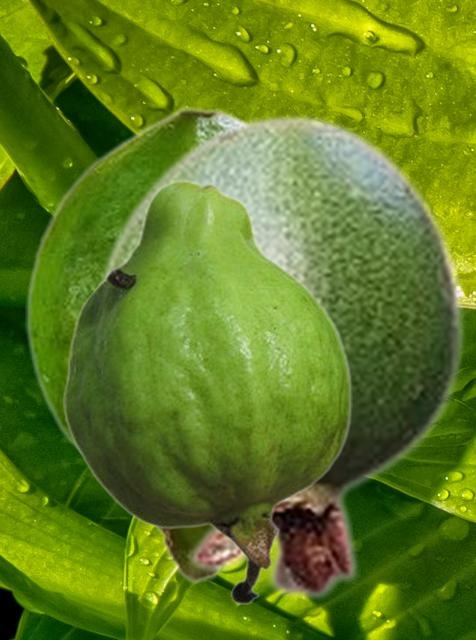guava: (93, 112, 467, 601), (61, 178, 351, 604), (25, 106, 246, 584)
